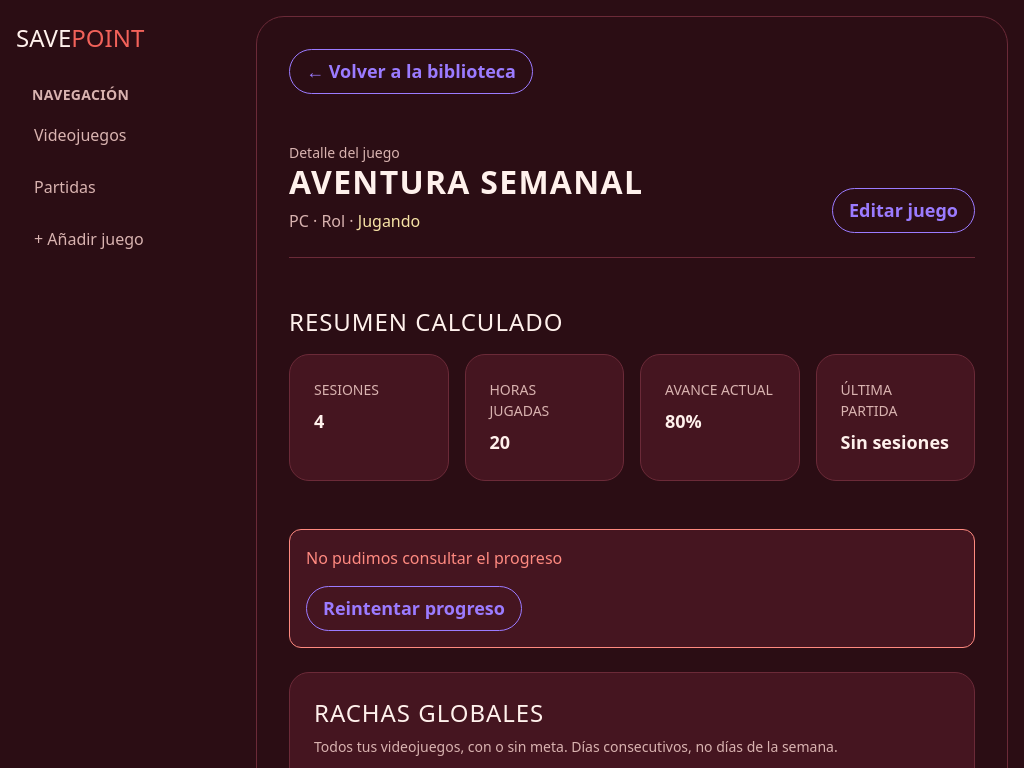
Scenario: FE-01: fallo parcial permite reintentar GET sin ocultar E1
Expected: the message shows "No pudimos consultar el progreso", x1=306 y1=547 x2=562 y2=569
Expected: the heading "Aventura semanal" is shown, x1=289 y1=163 x2=643 y2=201
Click the button "Reintentar progreso".
click(414, 608)  # box x1=306 y1=586 x2=522 y2=631
(page scrolled)
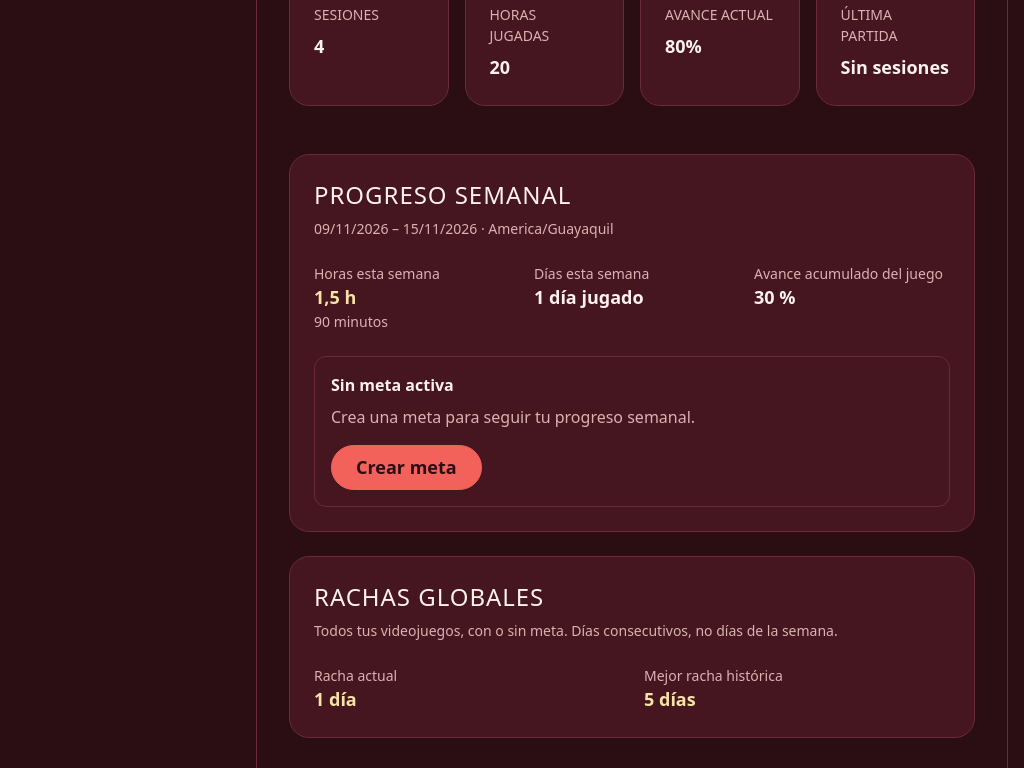
Expected: the text "Sin meta activa" is shown, x1=331 y1=374 x2=454 y2=396
